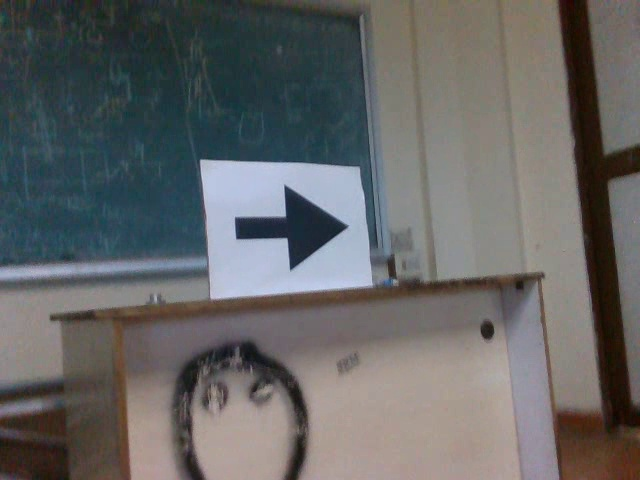Right: (226, 178, 357, 271)
